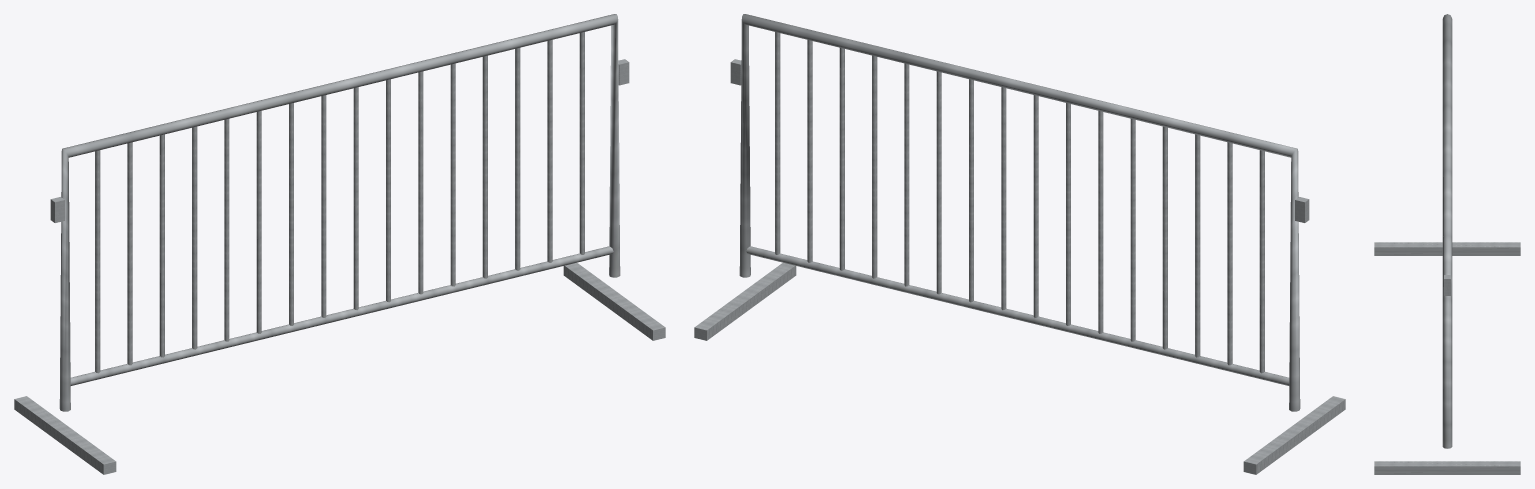
The model's file is barriere_vauban_lod0.glb.
3 views of the same model, side by side, from view 1: azimuth 30°, elevation 25°; view 2: azimuth 150°, elevation 25°; view 3: azimuth 270°, elevation 25° (orthographic). The views are drawn at different scales.
Visible parts, largest first — view 1: barriere_vauban; view 2: barriere_vauban; view 3: barriere_vauban.
Boxes of the visible parts, x1,y1,x2,y2 form: barriere_vauban: [14, 14, 665, 474]; barriere_vauban: [694, 14, 1345, 474]; barriere_vauban: [1374, 14, 1520, 474].
Bounding box in the file's own units: 2.3 × 1.12 × 0.62.
Materials: 1 (1 with a texture image).
